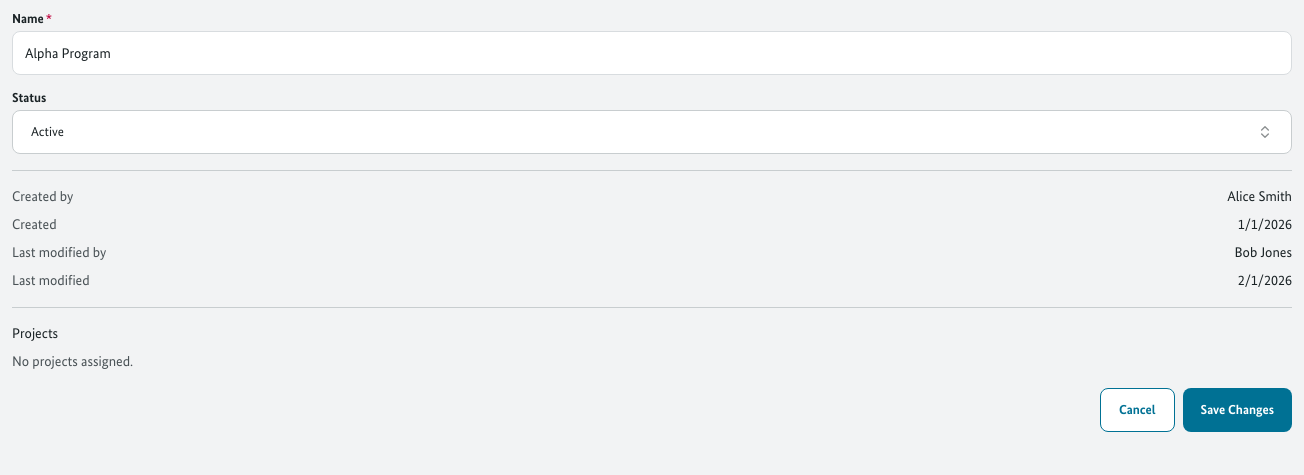
Test: EditProgramForm — validation › shows required error when name is cleared and form is submitted
Clear the field labelled "Name*" at (652, 53), box x1=12 y1=31 x2=1292 y2=75
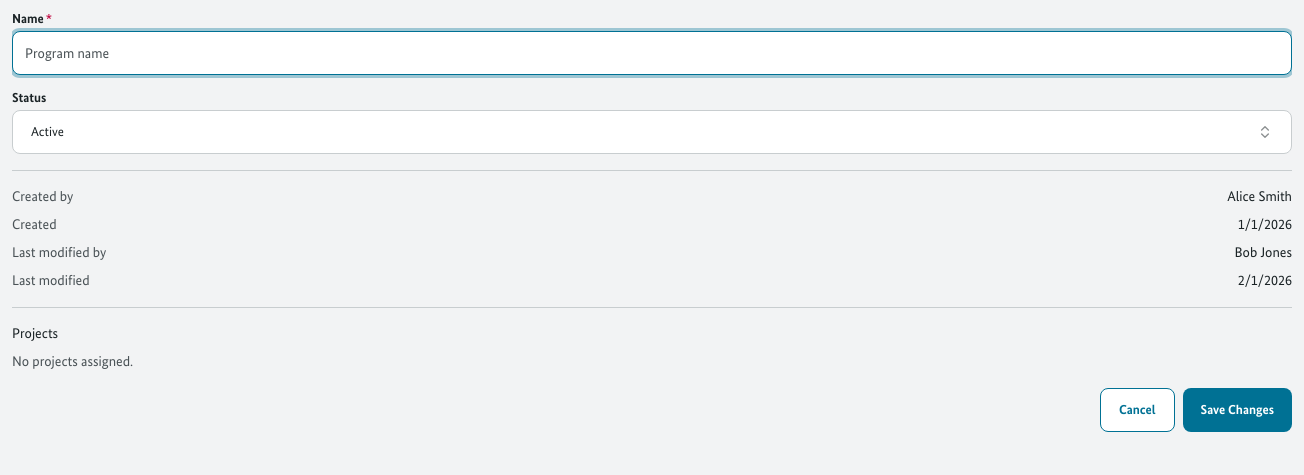
Click the button "Save Changes" at (1237, 410), box x1=1183 y1=388 x2=1292 y2=432
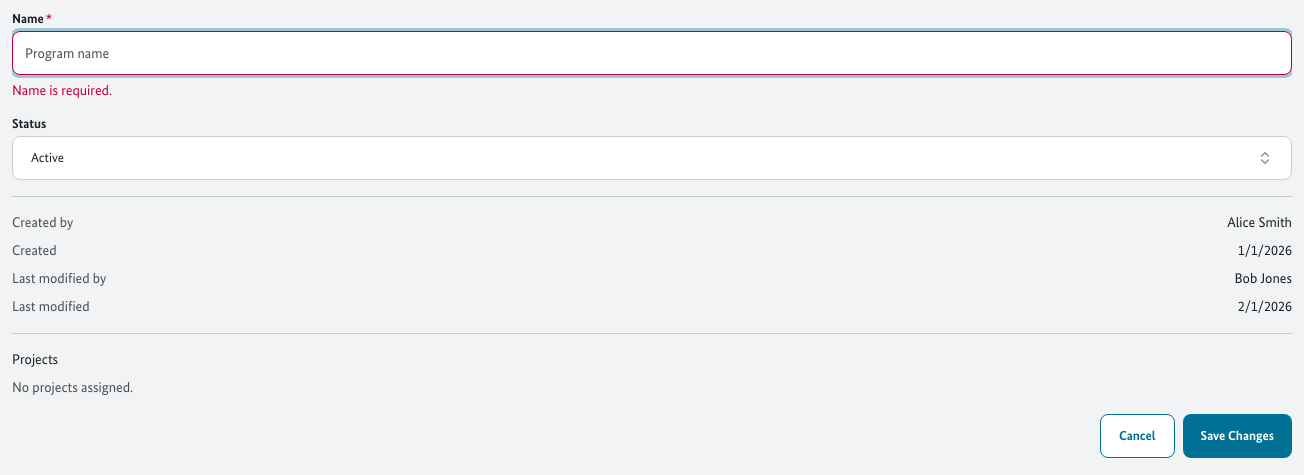
Expected: the message "Name is required." is shown, x1=12 y1=82 x2=112 y2=99
